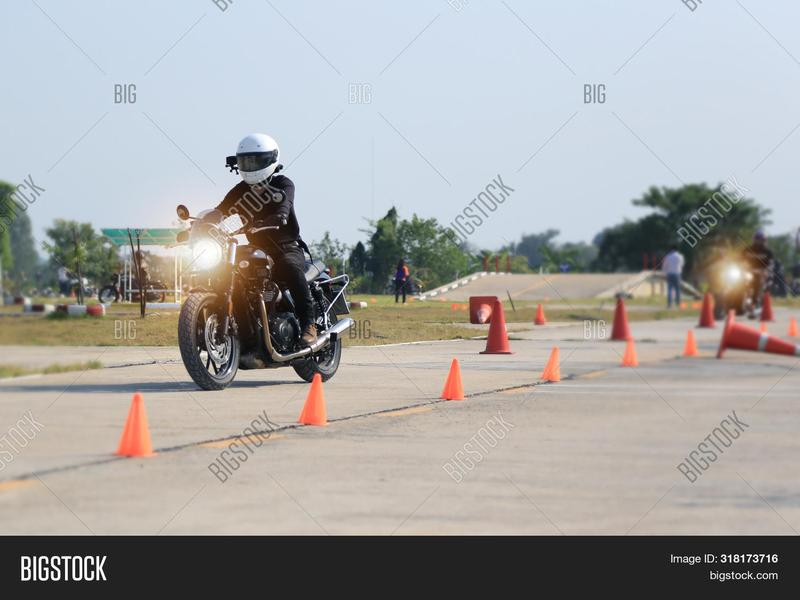Cone: (479, 300, 516, 355), (604, 295, 636, 340), (695, 291, 719, 329), (757, 292, 775, 321), (532, 304, 550, 326)
Cone1: (113, 393, 158, 458), (296, 372, 330, 427), (439, 356, 468, 401), (539, 345, 562, 382), (619, 336, 641, 369), (678, 330, 700, 356), (788, 316, 800, 337)
